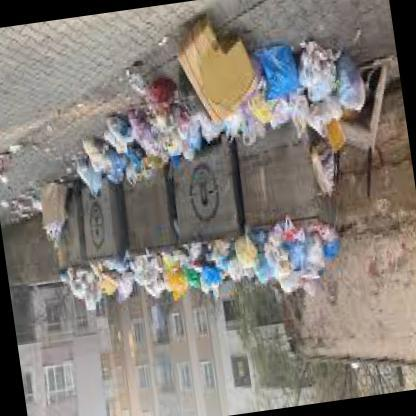Garbage: (77, 98, 188, 192), (302, 32, 371, 158), (253, 30, 332, 135), (247, 220, 347, 287), (182, 245, 254, 296), (132, 254, 192, 298), (89, 260, 142, 302), (66, 266, 102, 310), (314, 140, 343, 192), (182, 99, 206, 146)
